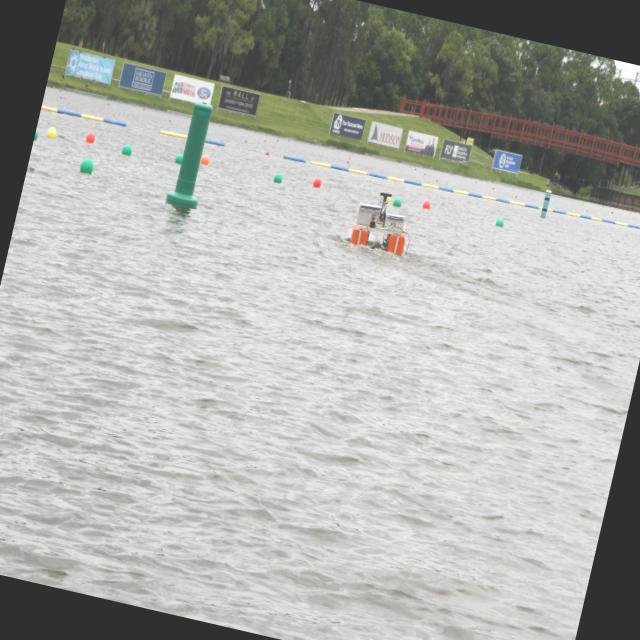buoy: (78, 156, 94, 176), (271, 168, 285, 187), (492, 215, 507, 232), (120, 138, 132, 158), (83, 129, 98, 145), (420, 196, 434, 212), (391, 193, 404, 210), (172, 147, 184, 165), (198, 151, 210, 169), (44, 124, 58, 139), (311, 177, 325, 190), (32, 124, 40, 146)
